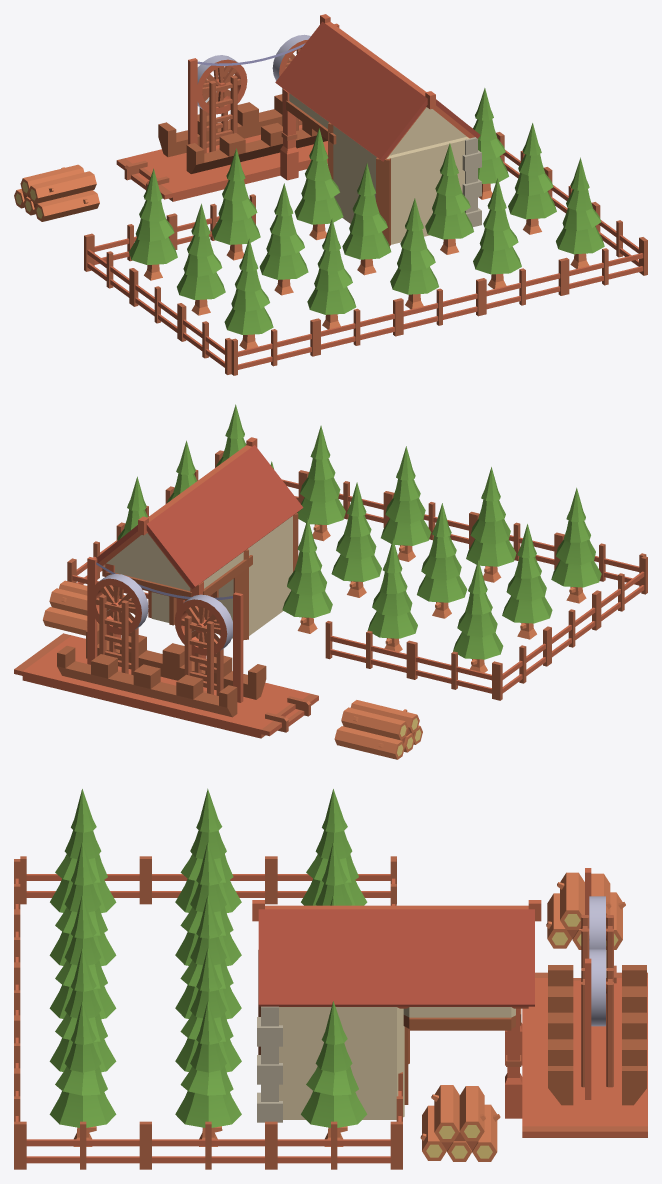
Rendered from installation_forestiere.glb.
3 renders of one model, top to bottom at view 1: azimuth 30°, elevation 25°; view 2: azimuth 150°, elevation 25°; view 3: azimuth 270°, elevation 25°, orthographic. The views are drawn at different scales.
Parts seen in each view (by area): view 1: mergedBlocks(Clone); view 2: mergedBlocks(Clone); view 3: mergedBlocks(Clone).
Boxes of the visible parts, x1,y1,x2,y2 form: mergedBlocks(Clone): (14,14,647,375); mergedBlocks(Clone): (14,404,647,759); mergedBlocks(Clone): (14,788,647,1169).
Size of the model in its own units: 5.05 by 1.76 by 5.05.
1 material, 1 textured.
